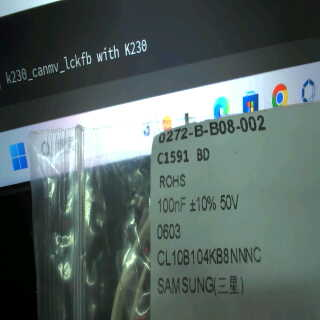100nF: (157, 194, 190, 217)
